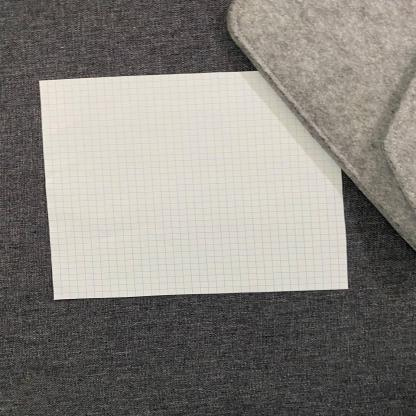grid: (27, 67, 359, 303)
